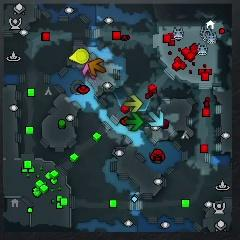p4: (68, 48, 90, 63)
x1: (83, 63, 95, 80)
x2: (126, 94, 143, 112)
x3: (148, 110, 165, 127)
x4: (126, 113, 143, 131)
x5: (89, 58, 106, 76)
